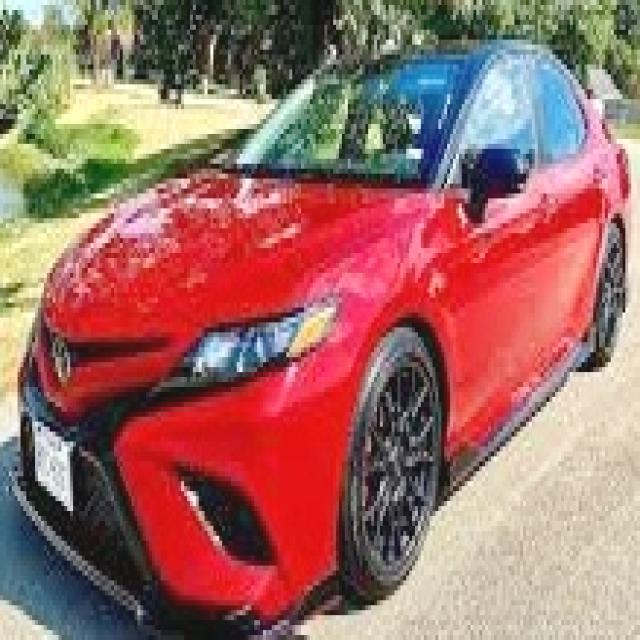red: (12, 29, 629, 612)
